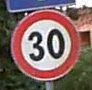limite 30: (8, 8, 79, 81)
